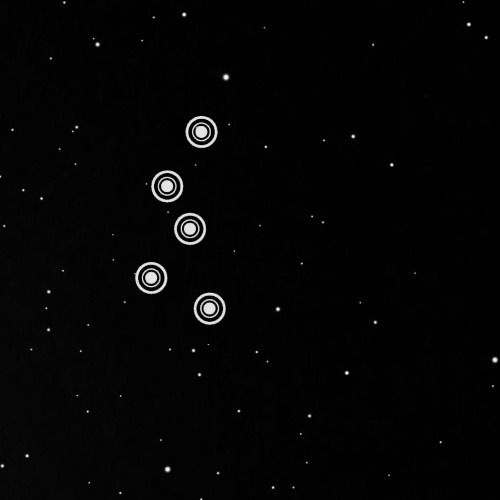cassiopeia: (128, 107, 232, 333)
